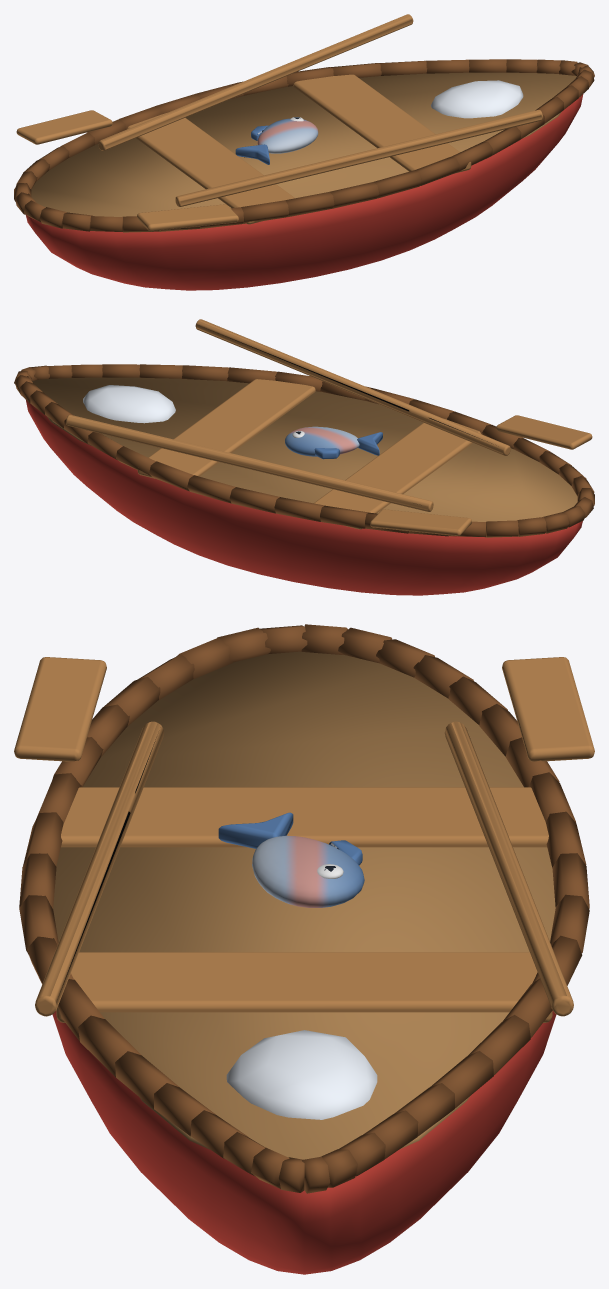
The model's file is boat_small.glb.
3 renders of one model, top to bottom at view 1: azimuth 30°, elevation 25°; view 2: azimuth 150°, elevation 25°; view 3: azimuth 270°, elevation 25°, orthographic. The views are drawn at different scales.
Parts seen in each view (by area): view 1: bf_body; view 2: bf_body; view 3: bf_body.
Boxes of the visible parts, x1,y1,x2,y2 form: bf_body: (14,14,594,290); bf_body: (14,319,594,595); bf_body: (14,624,594,1274).
Bounding box in the file's own units: 2.66 × 0.608 × 1.19.
2 materials, 1 textured.
